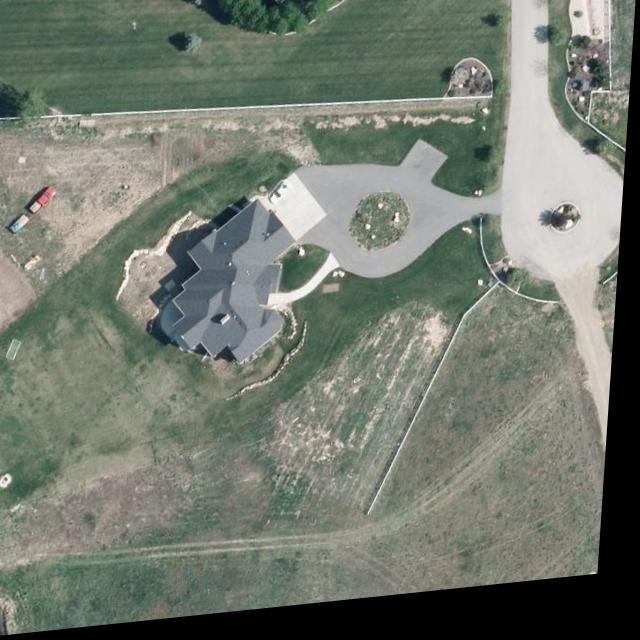vehicle: (29, 188, 60, 219), (270, 186, 298, 214)
